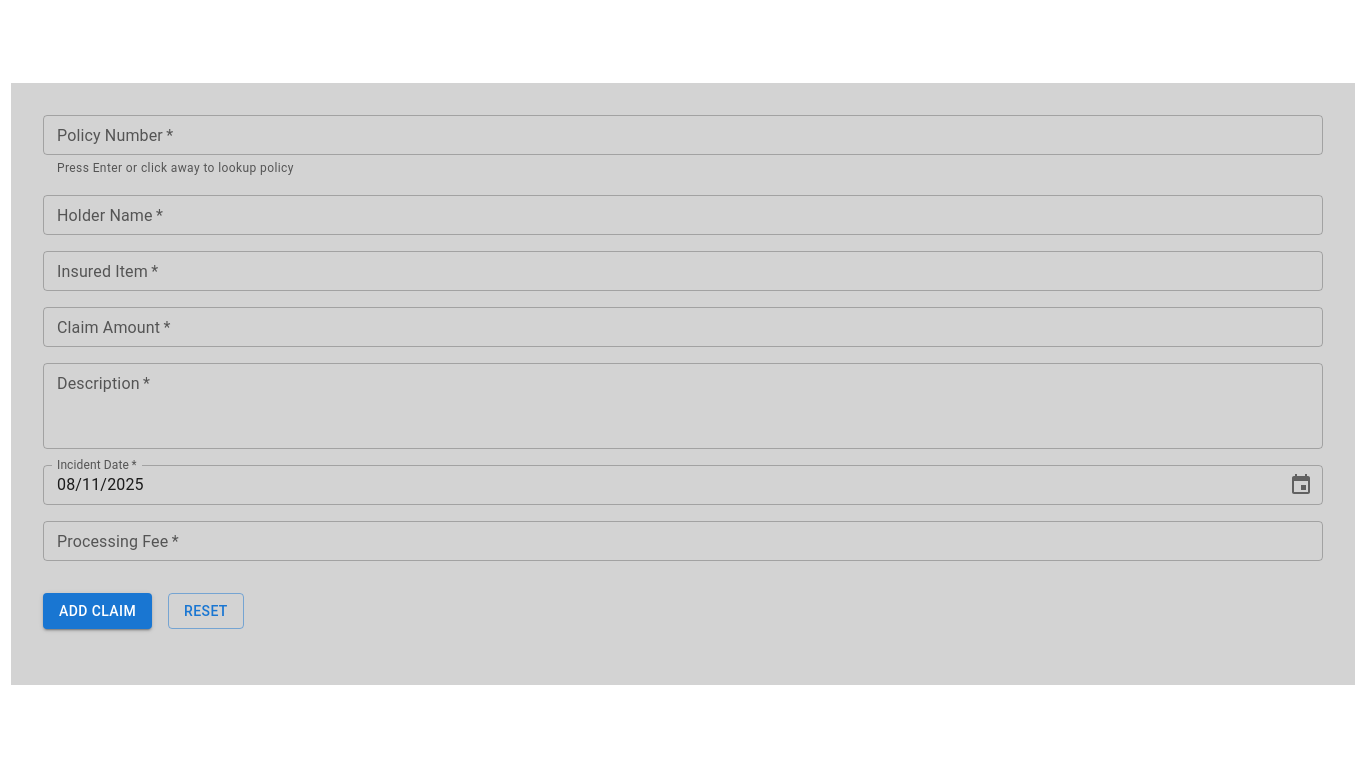
Test: ClaimForm › resets form fields when Reset is clicked
Type "PN123" into the field labelled "Policy Number *" at (683, 135), box [43,115,1323,155]
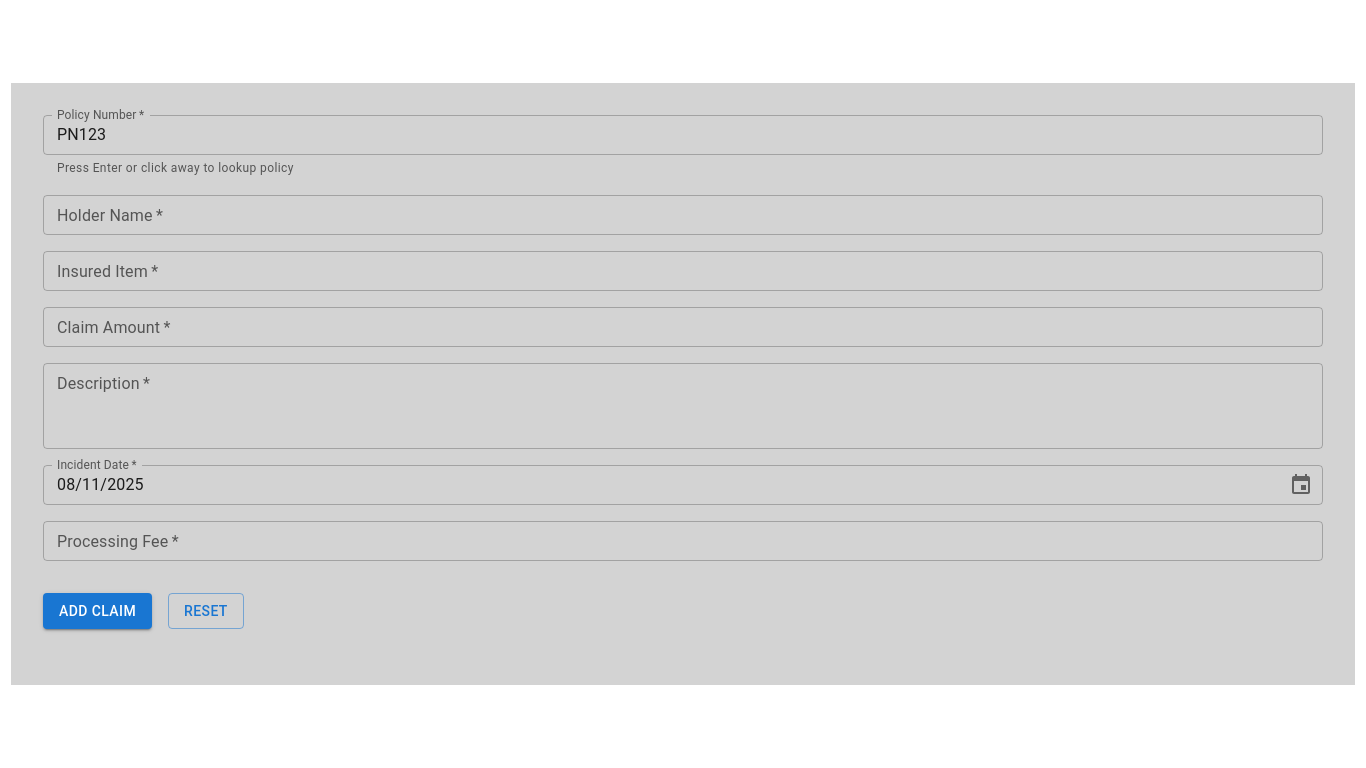
Type "John Doe" into the field labelled "Holder Name *" at (683, 215), box [43,195,1323,235]
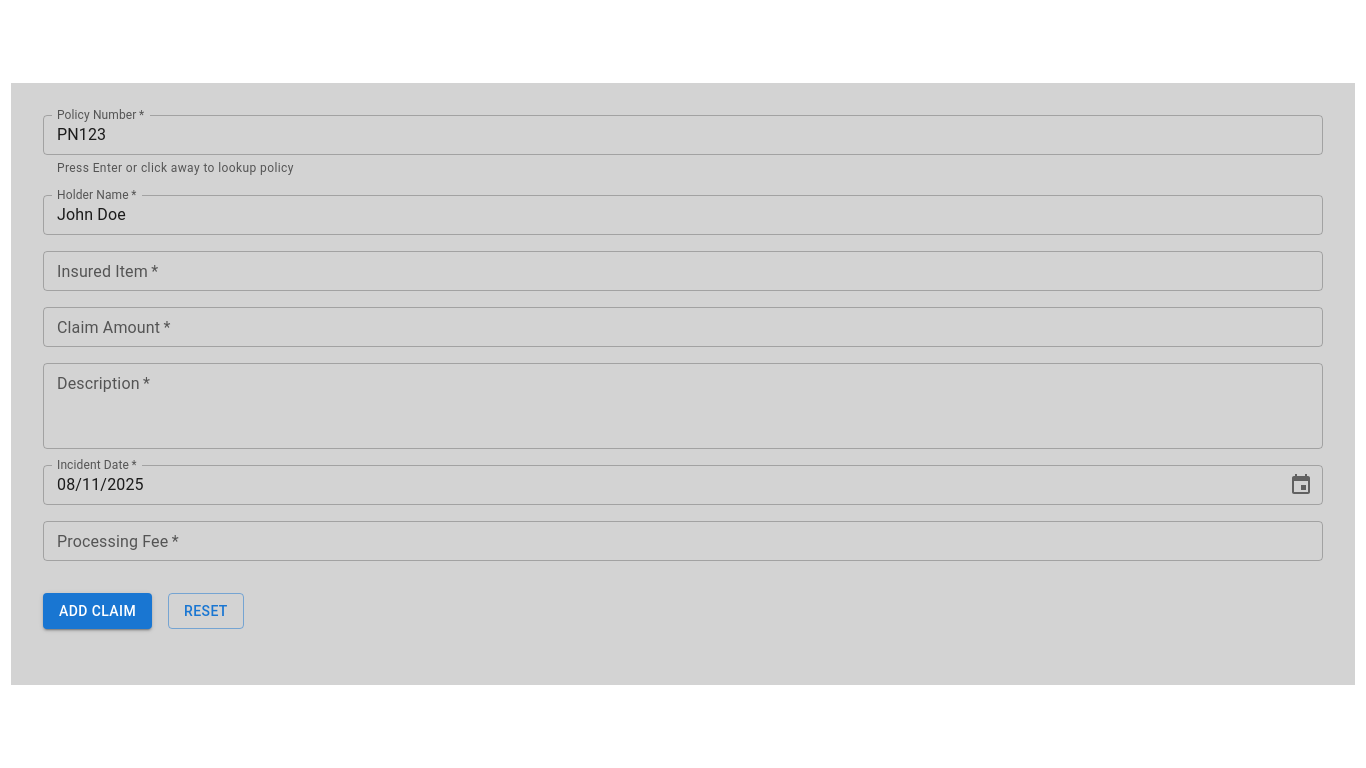
Type "Car" into the field labelled "Insured Item *" at (683, 271), box [43,251,1323,291]
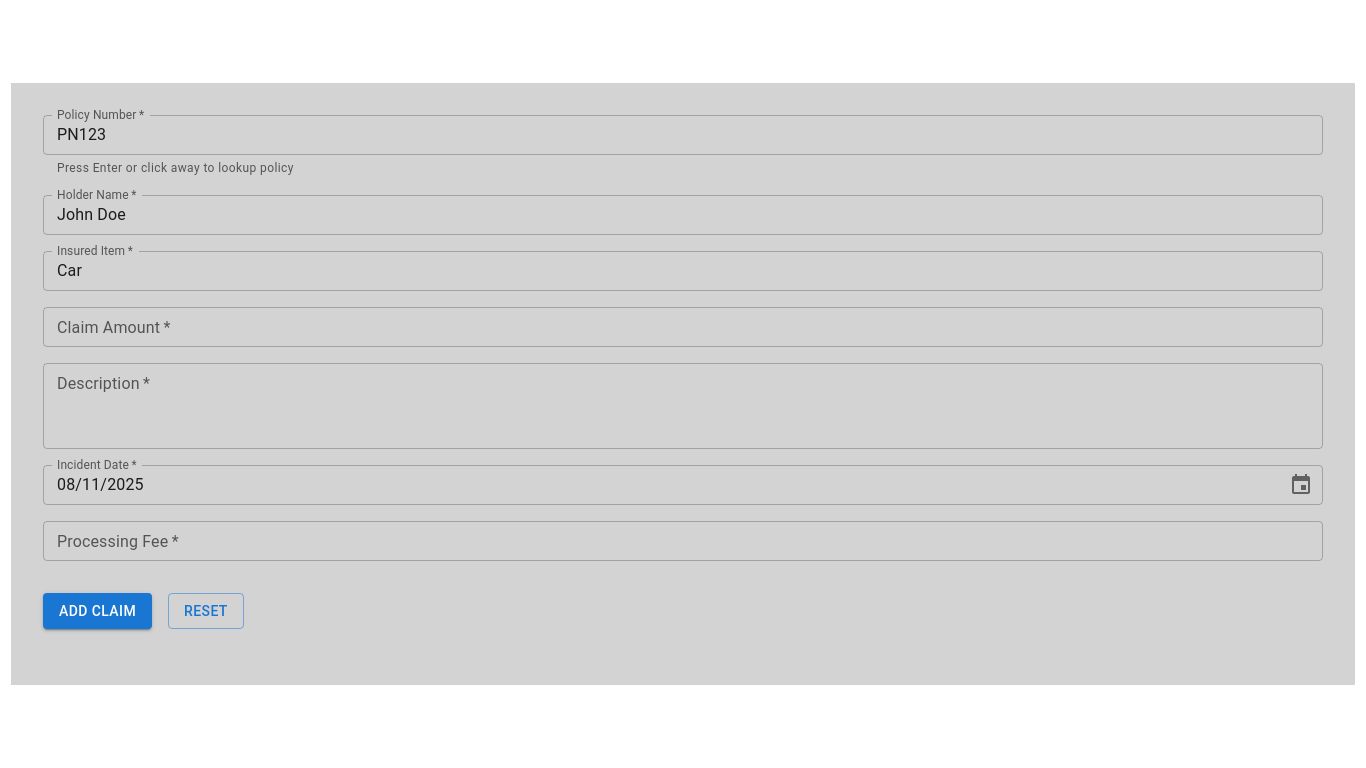
Click the button "Reset" at (206, 611), box [168,593,244,629]
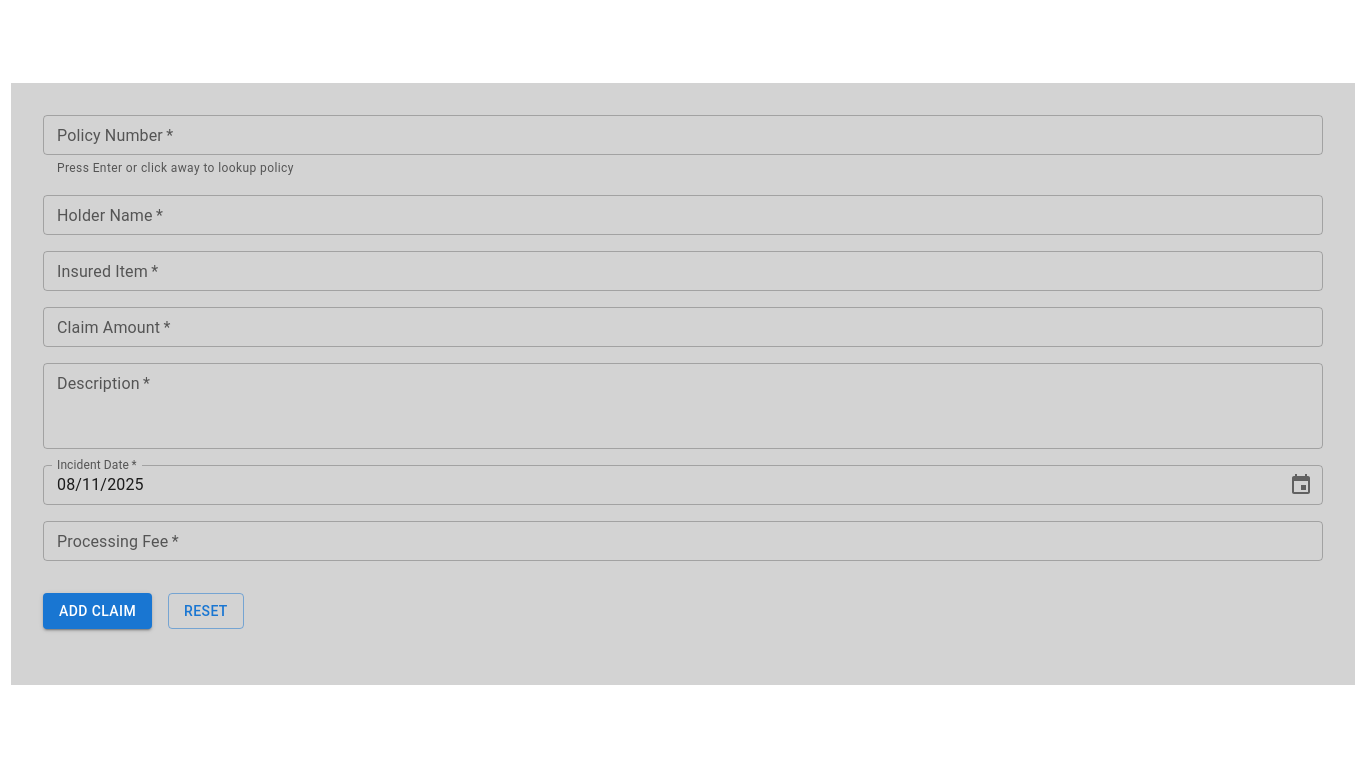
Result: the field labelled "Policy Number *" is empty at [43,115,1323,155]
Result: the field labelled "Holder Name *" is empty at [43,195,1323,235]
Result: the field labelled "Insured Item *" is empty at [43,251,1323,291]
